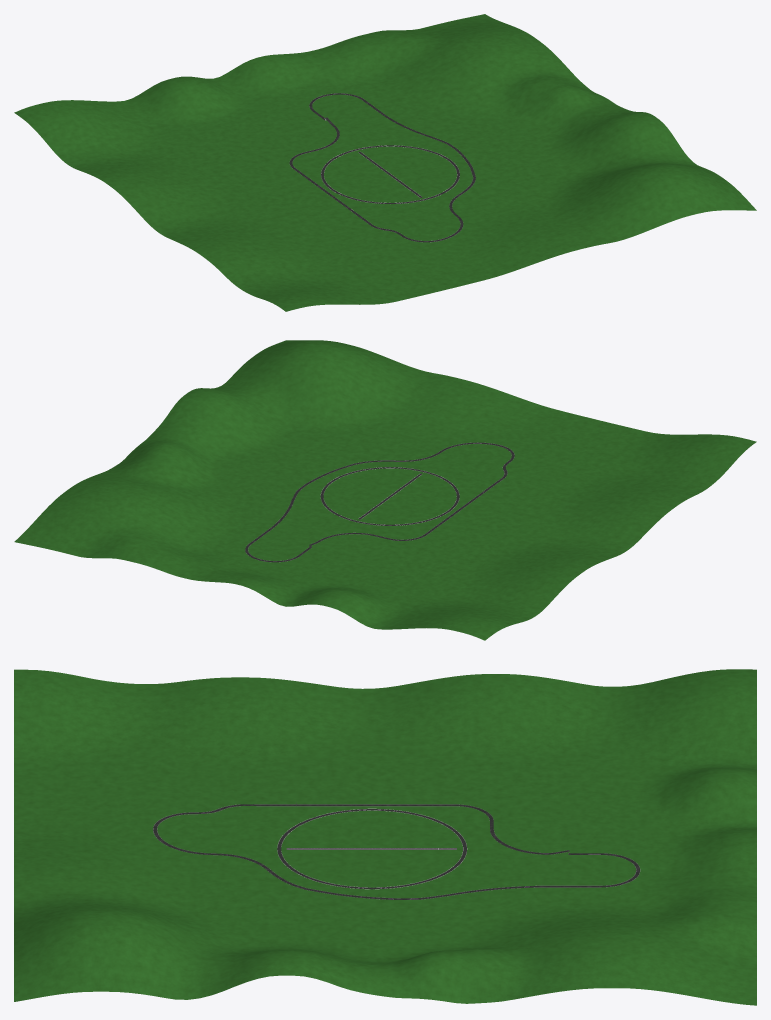
File: RaceMapTest_01.fbx
The picture shows the model from 3 angles, top to bottom: view 1: azimuth 30°, elevation 25°; view 2: azimuth 150°, elevation 25°; view 3: azimuth 270°, elevation 25°; orthographic projection. The views are drawn at different scales.
Parts seen in each view (by area): view 1: Плоскость, RoundedRoad, CircleRoad; view 2: Плоскость, RoundedRoad, CircleRoad; view 3: Плоскость, RoundedRoad, CircleRoad, Fence_2.
Boxes of the visible parts, bbox=[...] form: Плоскость: bbox=[14, 14, 756, 311]; RoundedRoad: bbox=[289, 93, 475, 242]; CircleRoad: bbox=[321, 145, 459, 203]; Плоскость: bbox=[14, 340, 756, 640]; RoundedRoad: bbox=[245, 442, 514, 562]; CircleRoad: bbox=[320, 467, 459, 525]; Плоскость: bbox=[14, 669, 756, 1005]; RoundedRoad: bbox=[153, 804, 640, 899]; CircleRoad: bbox=[277, 809, 466, 889]; Fence_2: bbox=[277, 808, 467, 889].
Size of what is drawn, in the model's own units: 39290 by 2547 by 39290.
Materials: 10 (4 with a texture image).
